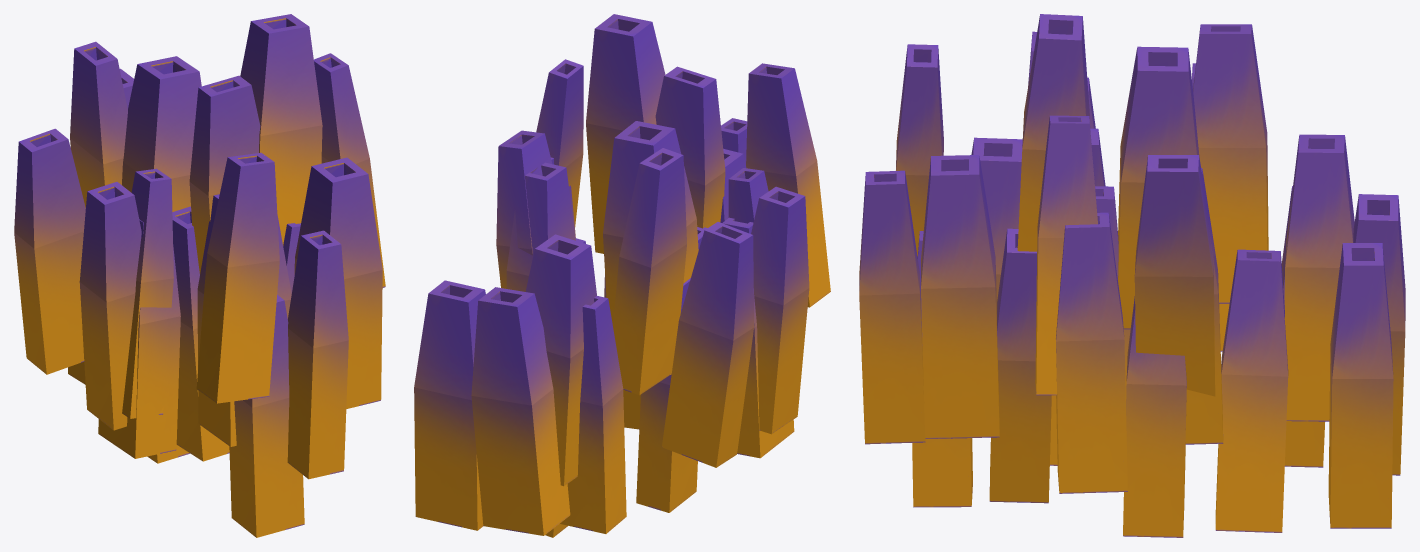
Rendered from coral1REALtextured.glb.
3 renders of one model, left to right at view 1: azimuth 30°, elevation 25°; view 2: azimuth 150°, elevation 25°; view 3: azimuth 270°, elevation 25°, orthographic. The views are drawn at different scales.
Parts seen in each view (by area): view 1: coral 1; view 2: coral 1; view 3: coral 1.
Boxes of the visible parts, x1,y1,x2,y2 form: coral 1: (14, 14, 385, 537); coral 1: (414, 14, 830, 537); coral 1: (859, 14, 1405, 537).
Size of the model in its own units: 4.64 by 6.86 by 6.7.
Materials: 1 (1 with a texture image).
